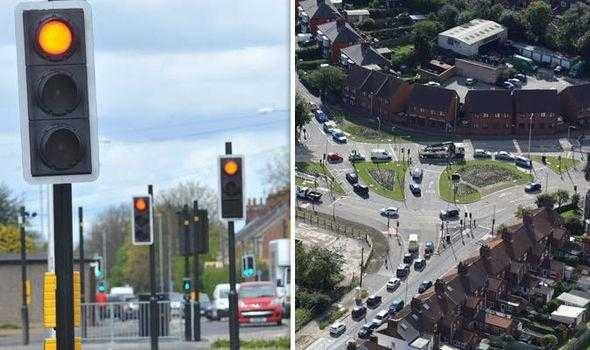red: (25, 6, 95, 176), (25, 7, 84, 63), (225, 157, 242, 218), (133, 197, 152, 241), (223, 158, 239, 178), (134, 197, 150, 209)
